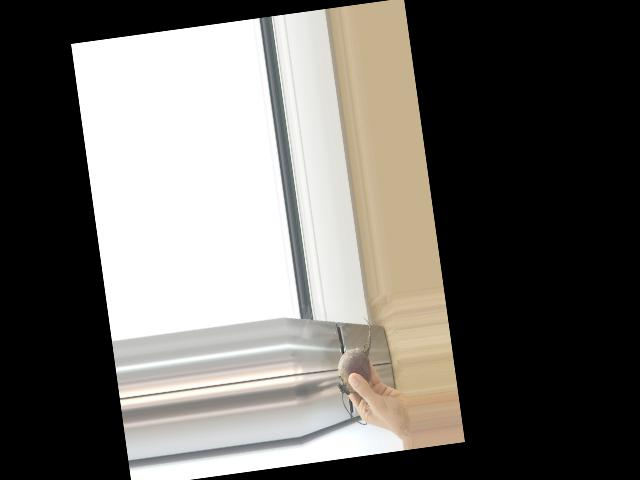beet: (329, 315, 383, 427)
